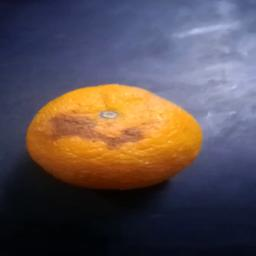Orange Semifresh: (17, 78, 208, 192)
